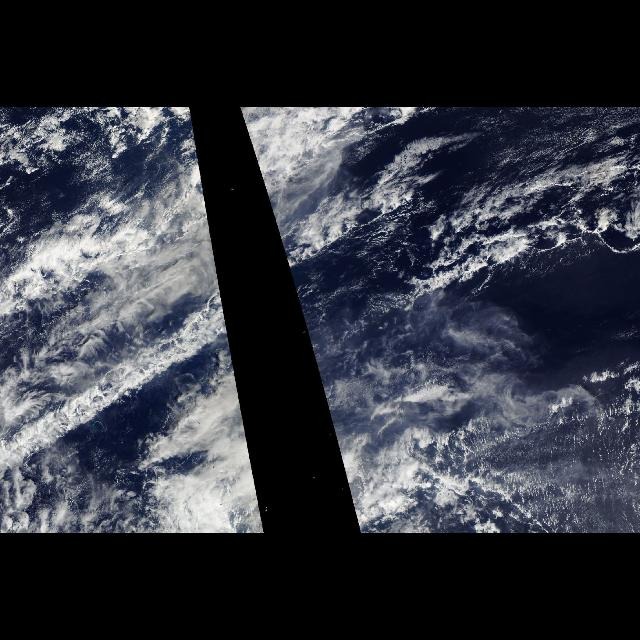Fish: (250, 144, 640, 370), (9, 144, 235, 370)
Sugar: (477, 438, 639, 534)
